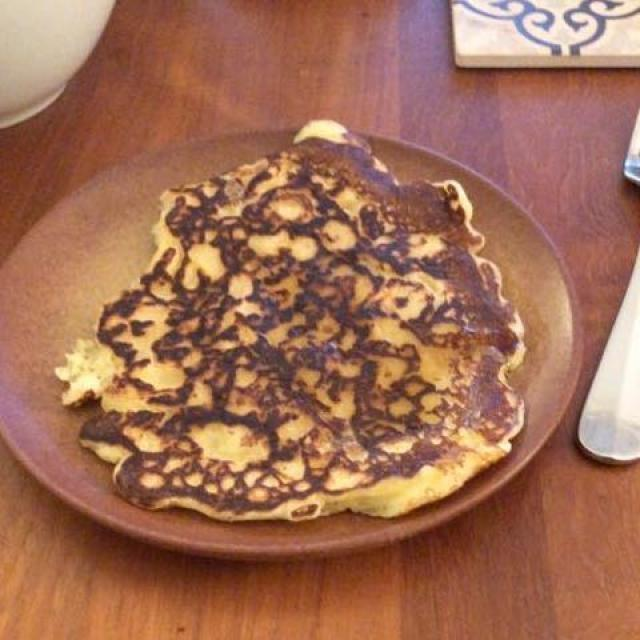crepe: (47, 127, 547, 513)
maple-syrup: (63, 122, 549, 513)
